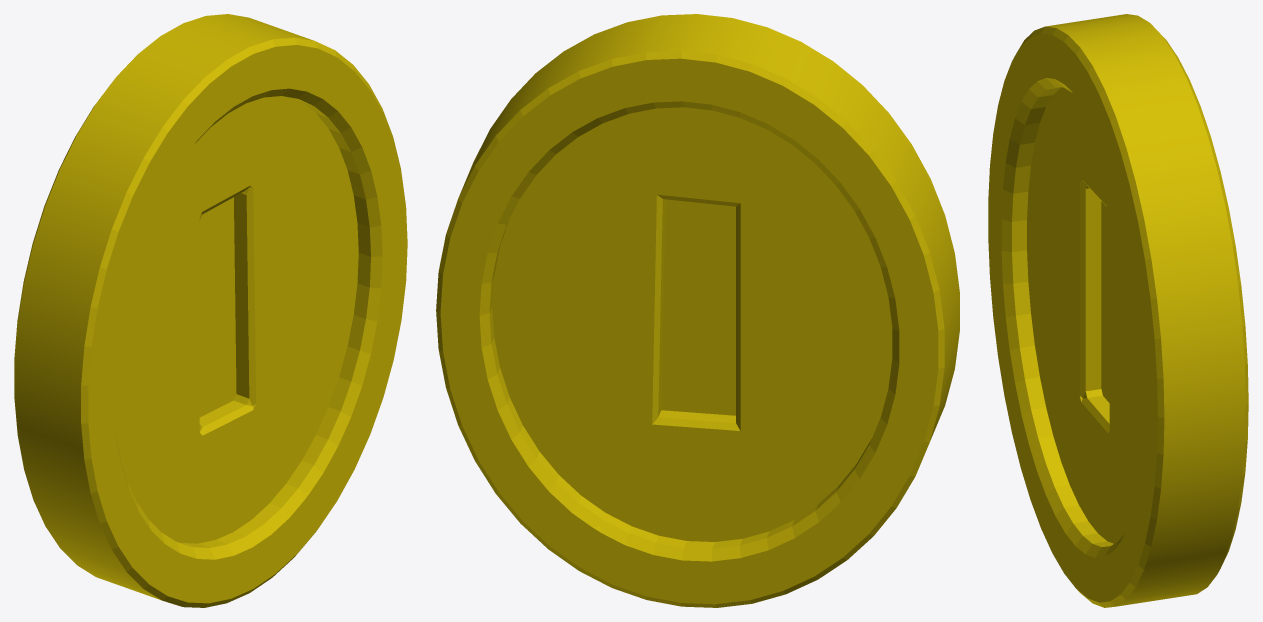
File: Coin.FBX
3 renders of one model, left to right at view 1: azimuth 30°, elevation 25°; view 2: azimuth 150°, elevation 25°; view 3: azimuth 270°, elevation 25°, orthographic.
Parts seen in each view (by area): view 1: Coin; view 2: Coin; view 3: Coin.
Part boxes in pixels (x1=…): Coin: x1=14, y1=14, x2=407, y2=607; Coin: x1=436, y1=14, x2=959, y2=607; Coin: x1=988, y1=14, x2=1248, y2=607.
Bounding box in the file's own units: 75.75 × 90.17 × 39.01.
